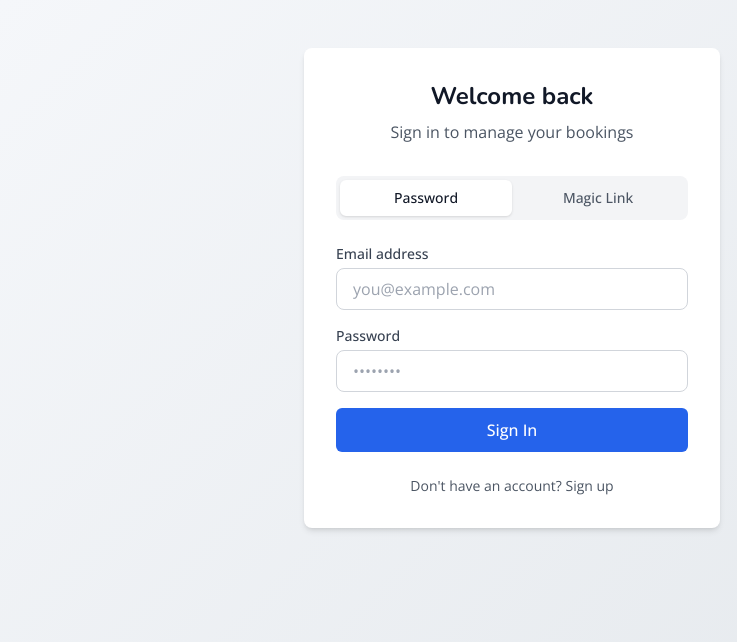
Test: LR-LG UI & structure › LR-LG-003: toggling to Magic Link hides password and back restores it
What coordinates should you click on to do the following:
click the button "Magic Link"
I would click on:
 (598, 198)
Its box is [512, 180, 684, 216].
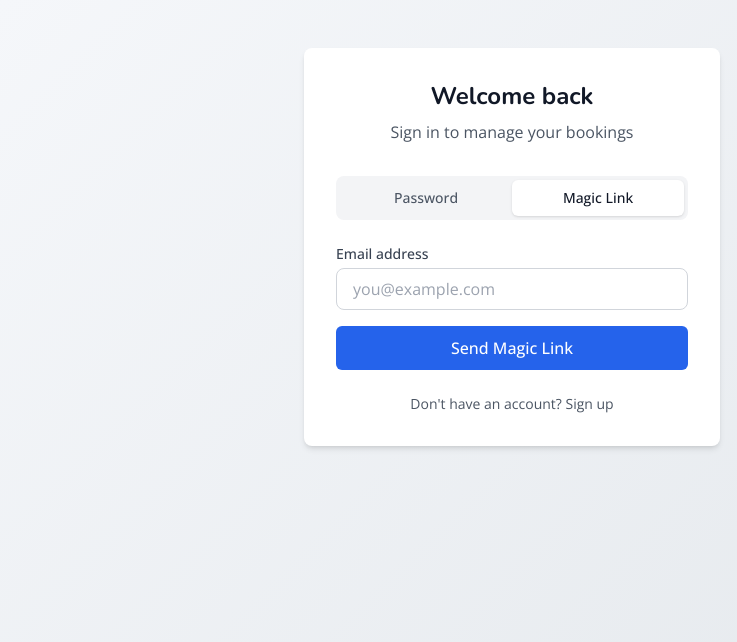
expect the button "Send Magic Link" is shown: met, box [336, 326, 688, 370]
What coordinates should you click on to do the following:
click the button "Password"
I would click on:
 (426, 198)
Its box is [340, 180, 512, 216].
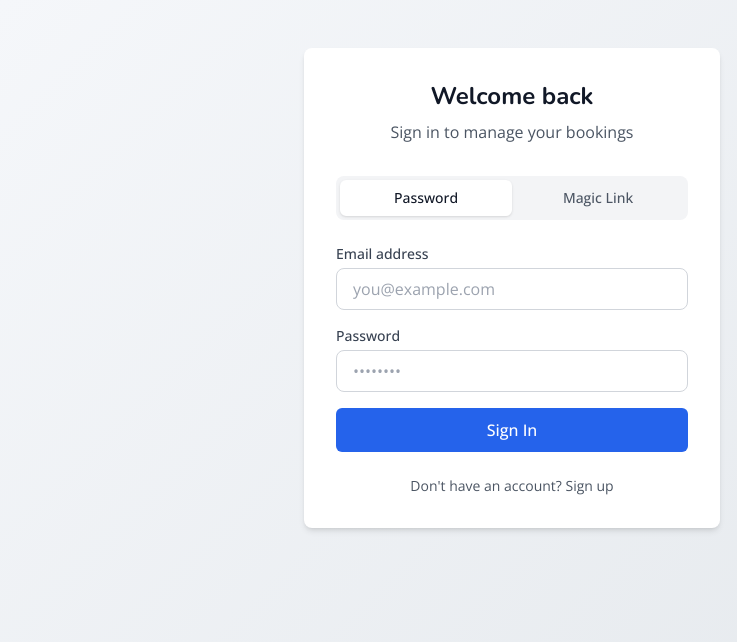
expect the password field labelled "Password" is shown: met, box [336, 350, 688, 392]
expect the button "Send Magic Link" is gone: met
